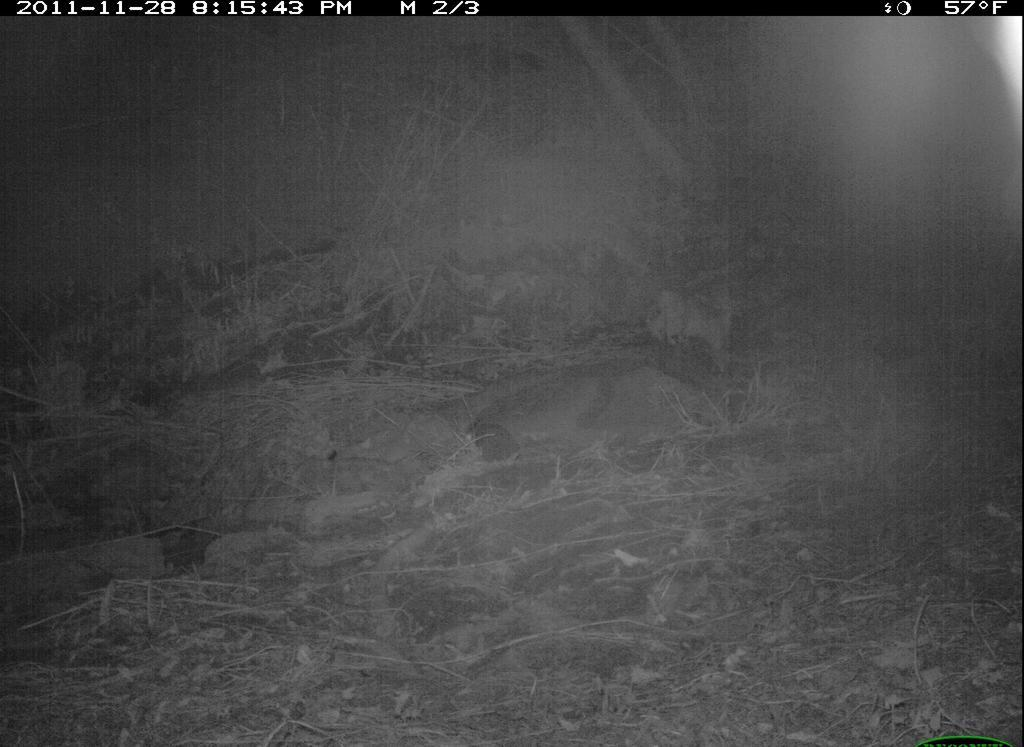bobcat: (638, 272, 753, 364)
